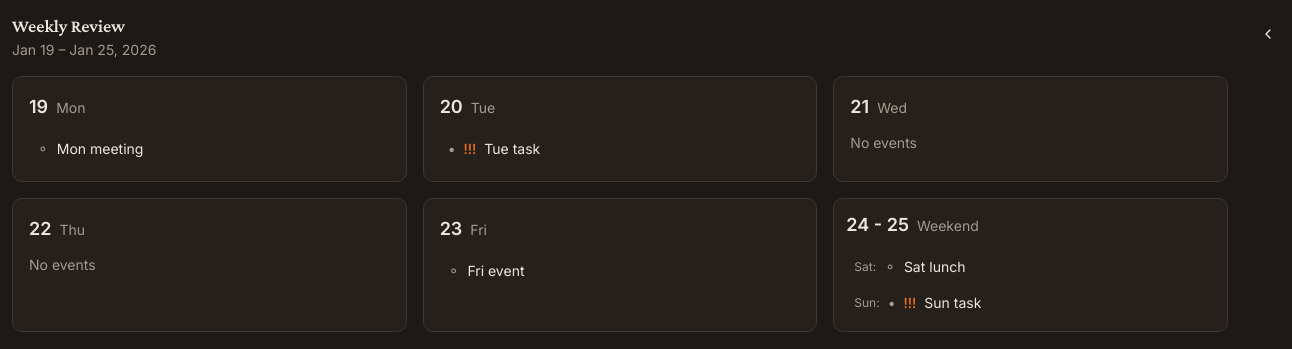
WeekView › Collapsible Context Panel › expands context panel when toggle clicked
Check: the text "Context" is not shown
Click the button named "Toggle context panel" at (1268, 34), box [1254,20,1282,48]
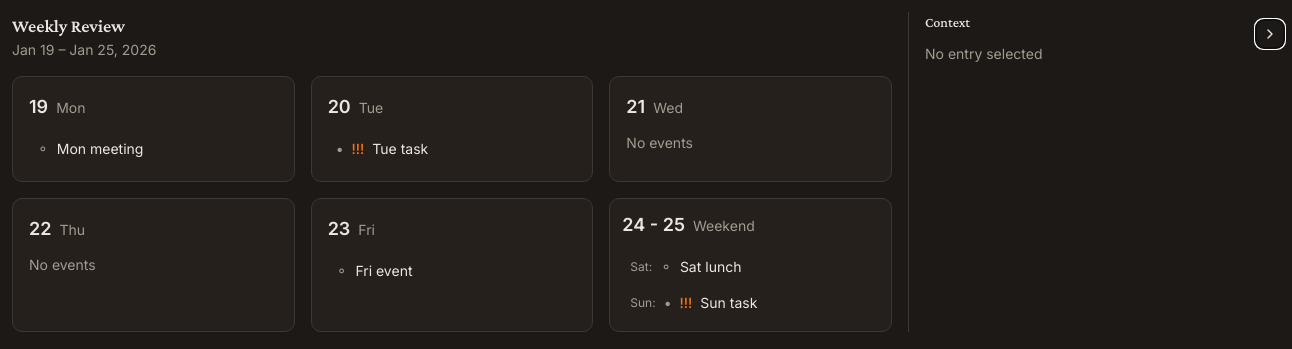
Check: the heading "Context" is shown, box [925,14,970,30]
